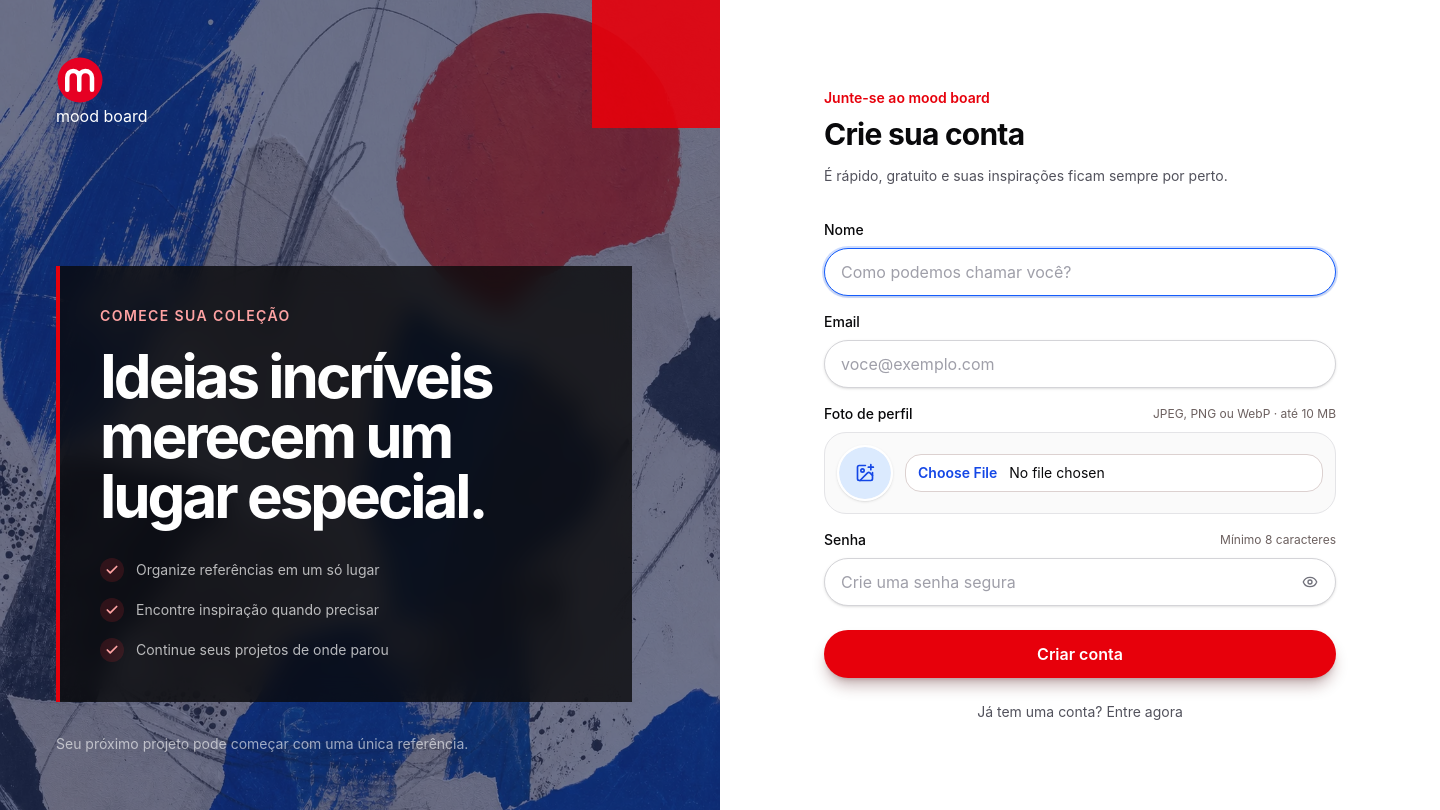
Scenario: RegisterPage › requires a profile image before creating the account
This screenshot has width=1440, height=810.
Type "Maria Silva" into the field labelled "Nome" at (1080, 272), box x1=824 y1=248 x2=1336 y2=296
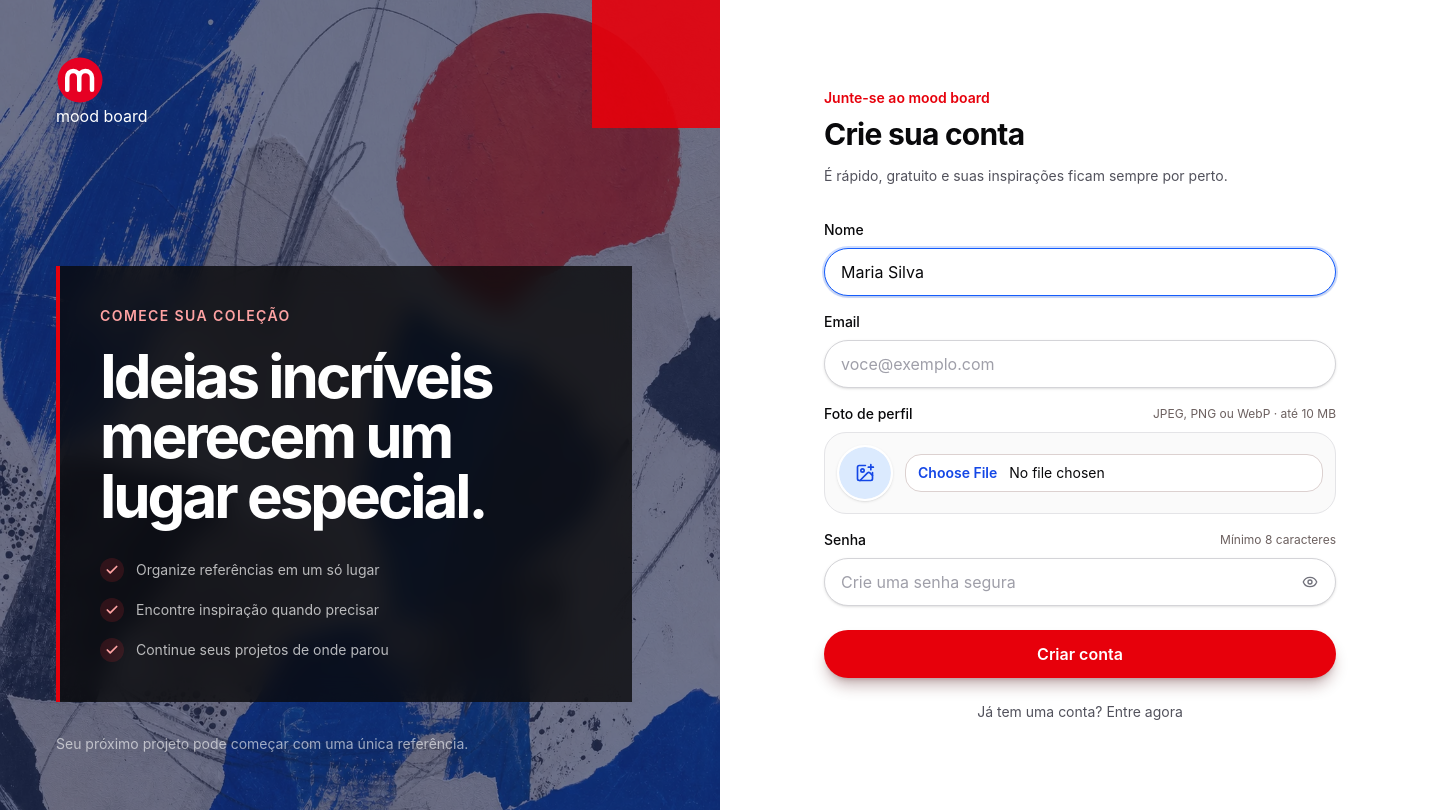
Type "maria@example.com" into the field labelled "Email" at (1080, 364), box x1=824 y1=340 x2=1336 y2=388
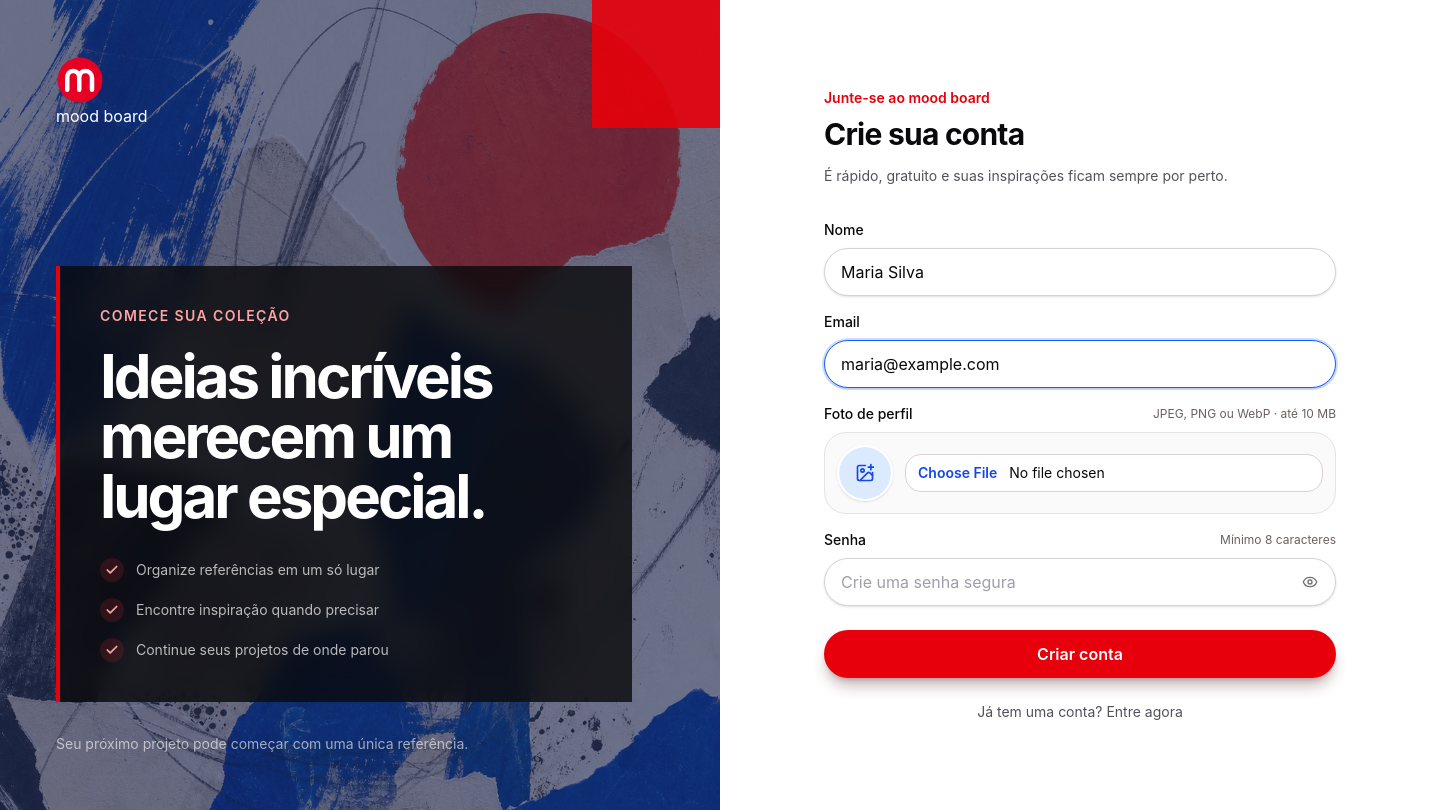
Type "password123" into the password field labelled "Senha" at (1080, 582), box x1=824 y1=558 x2=1336 y2=606
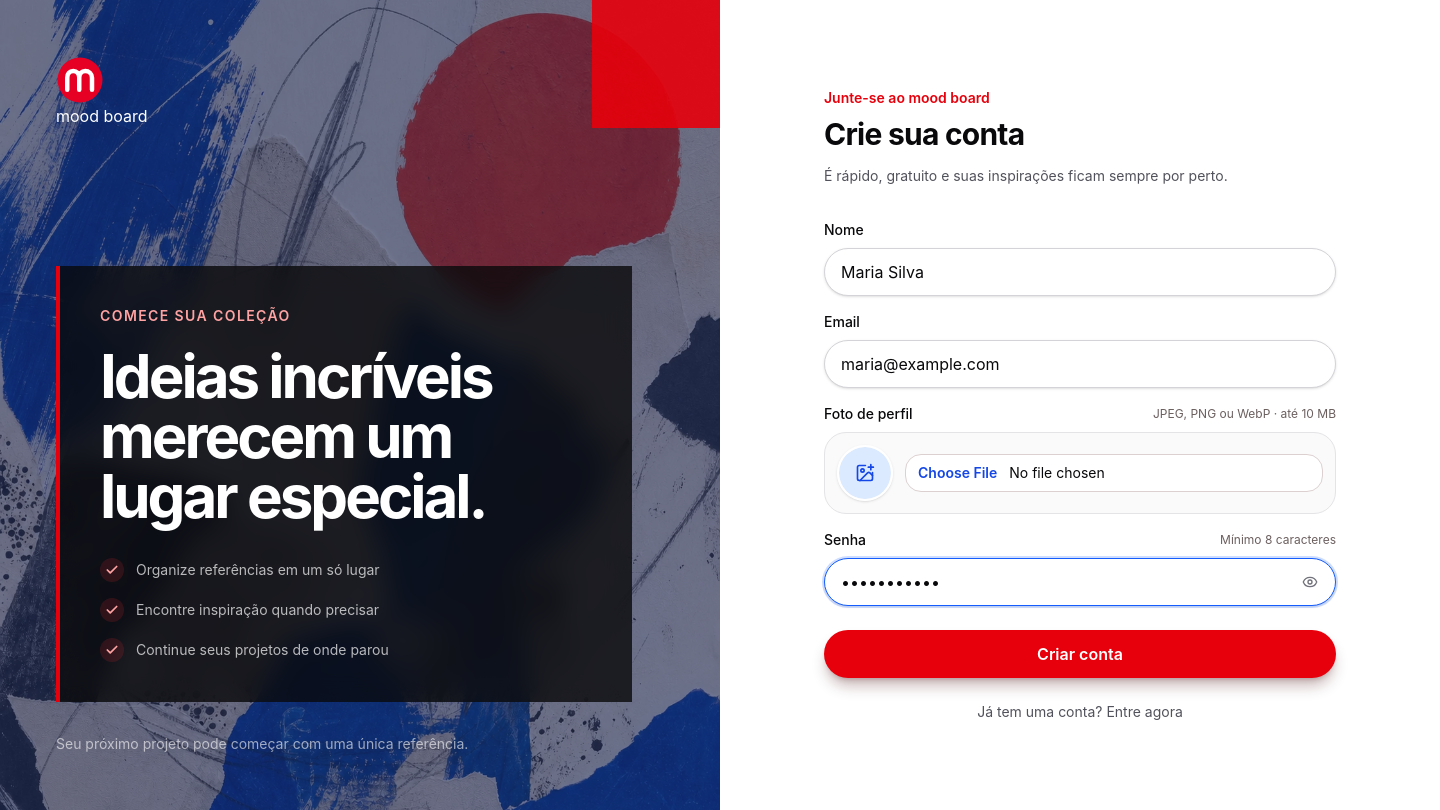
Click the button "Criar conta" at (1080, 654), box x1=824 y1=630 x2=1336 y2=678
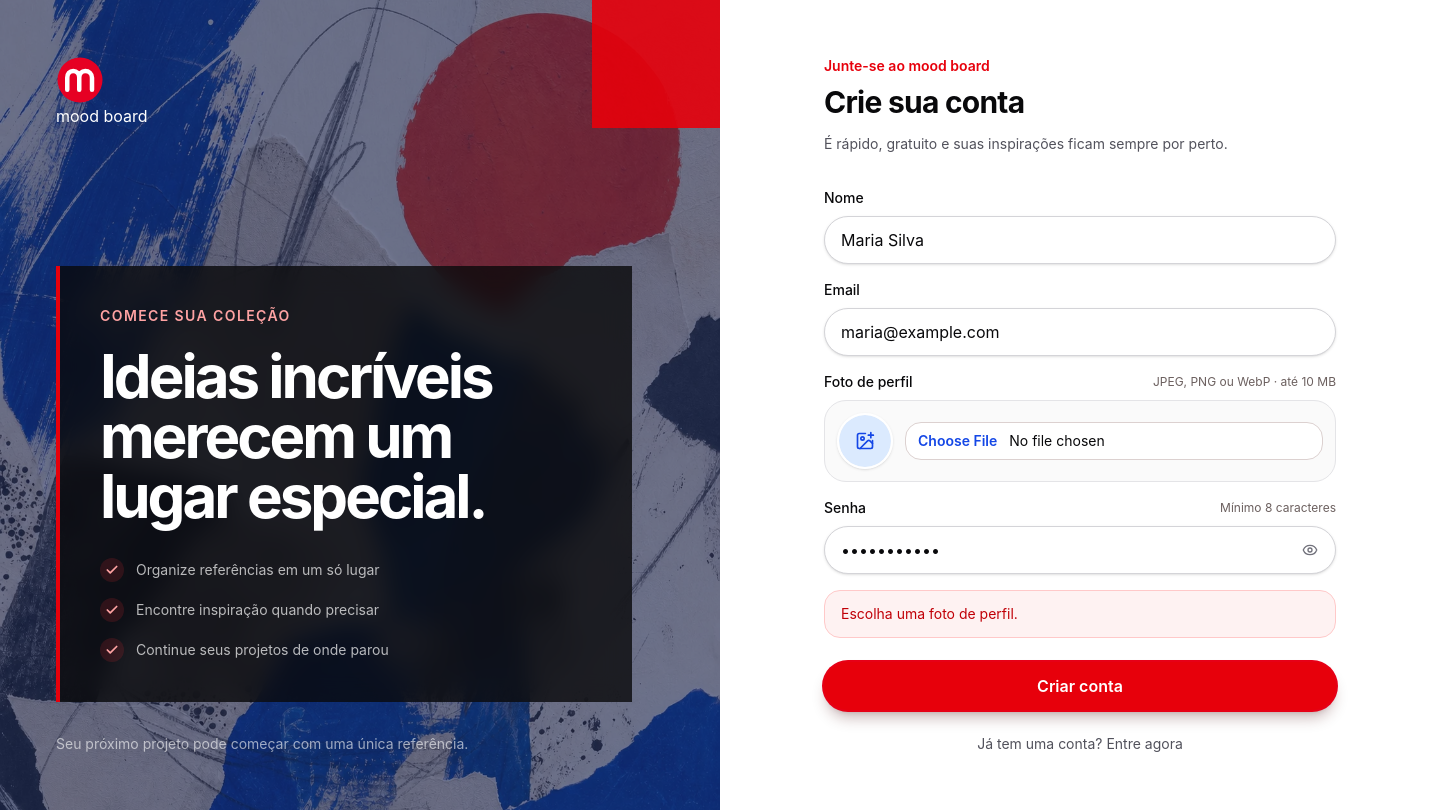
Check: the message reads "Escolha uma foto de perfil.", box x1=841 y1=605 x2=1018 y2=622
